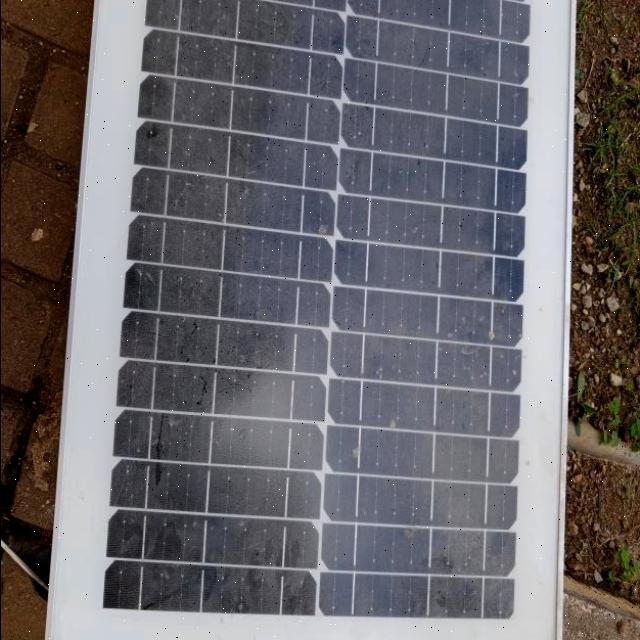Surface Contaminant: (90, 4, 543, 621)
